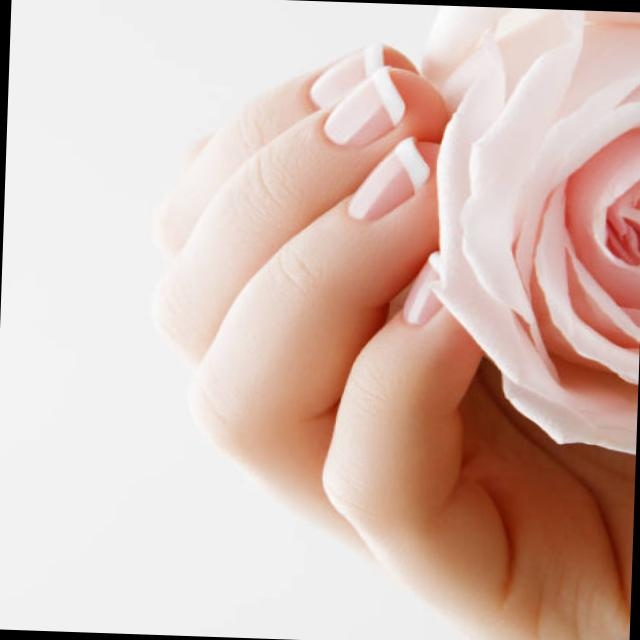Nail: (348, 133, 430, 219), (324, 64, 406, 144), (309, 40, 384, 106), (402, 259, 442, 323)
